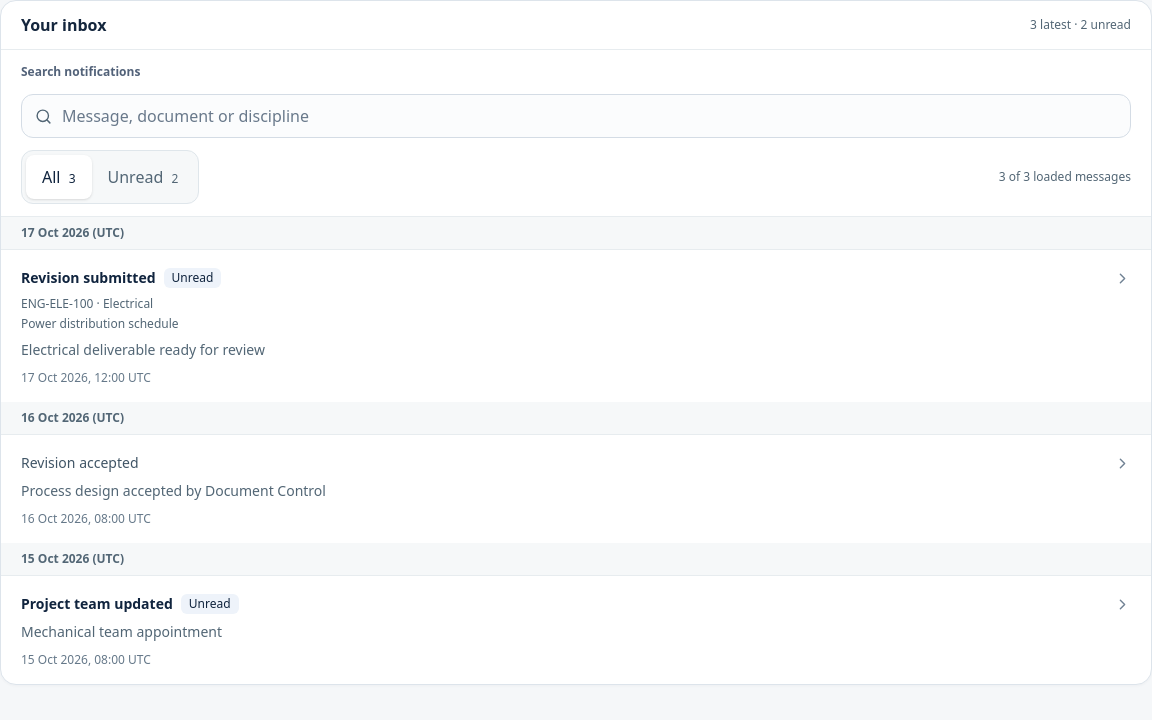
Test case: clean notification inbox › searches message and authorised document context locally: power distribution
This screenshot has width=1152, height=720.
Type "power distribution" into the search field labelled "Search notifications".
click(576, 116); type("power distribution")  # box 21,94 -> 1131,138
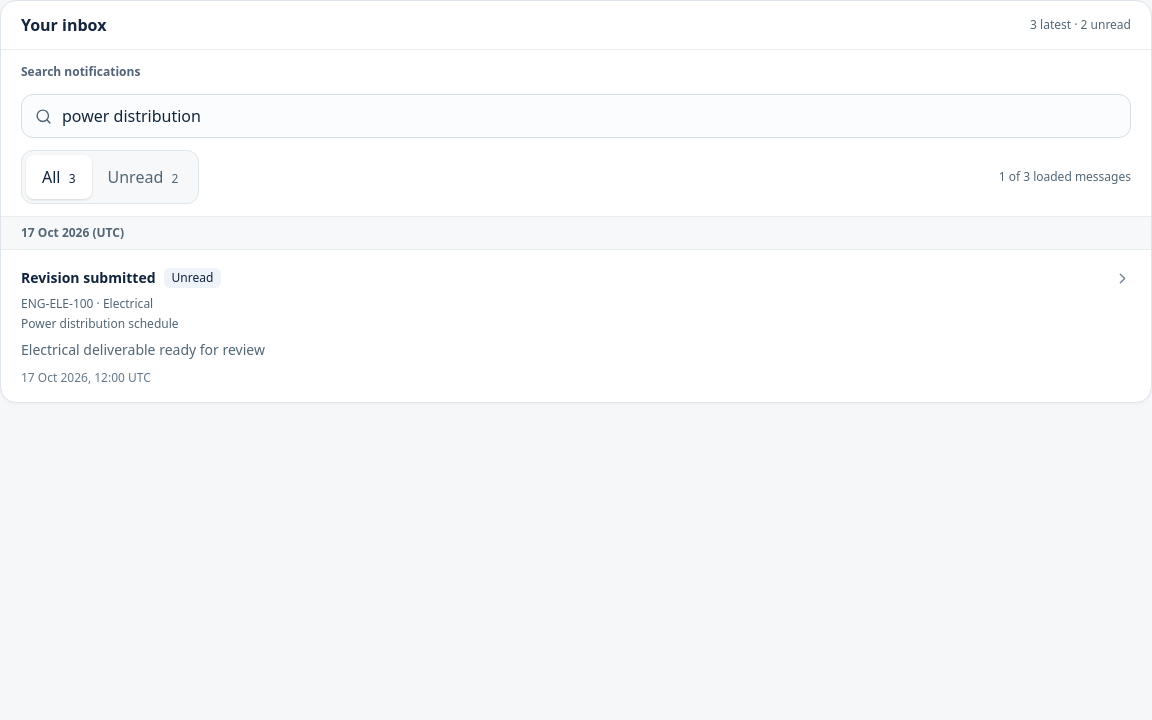
Check: the number of links is 1, box 1,250 -> 1151,402
Check: the message reads "1 of 3 loaded messages", box 999,168 -> 1131,185
